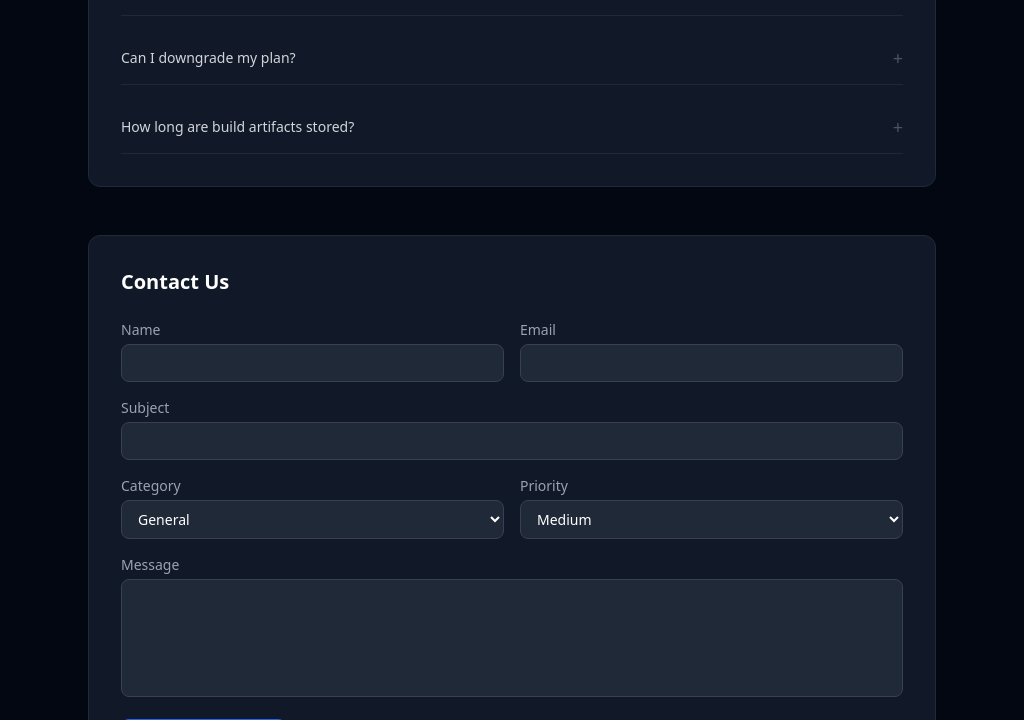
Test: SupportPage › shows error message when ticket submission fails
The width and height of the screenshot is (1024, 720).
(page scrolled)
Type "John Doe" into the field labelled "Name".
click(312, 363); type("John Doe")  # box [121, 344, 504, 382]
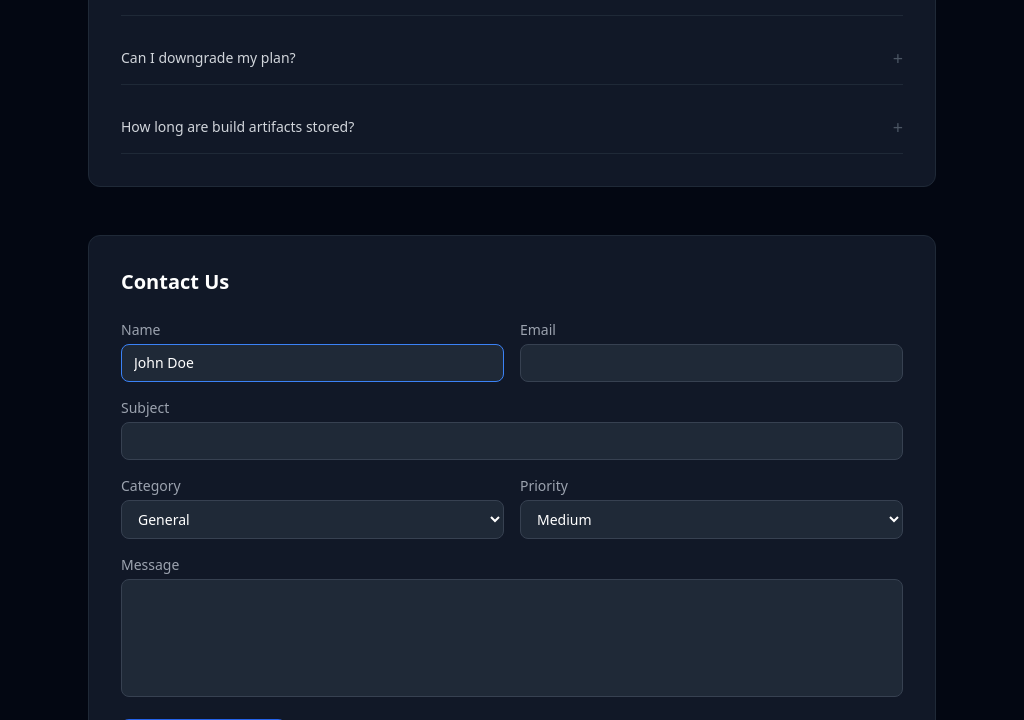
Type "john@example.com" into the field labelled "Email".
click(712, 363); type("john@example.com")  # box [520, 344, 903, 382]
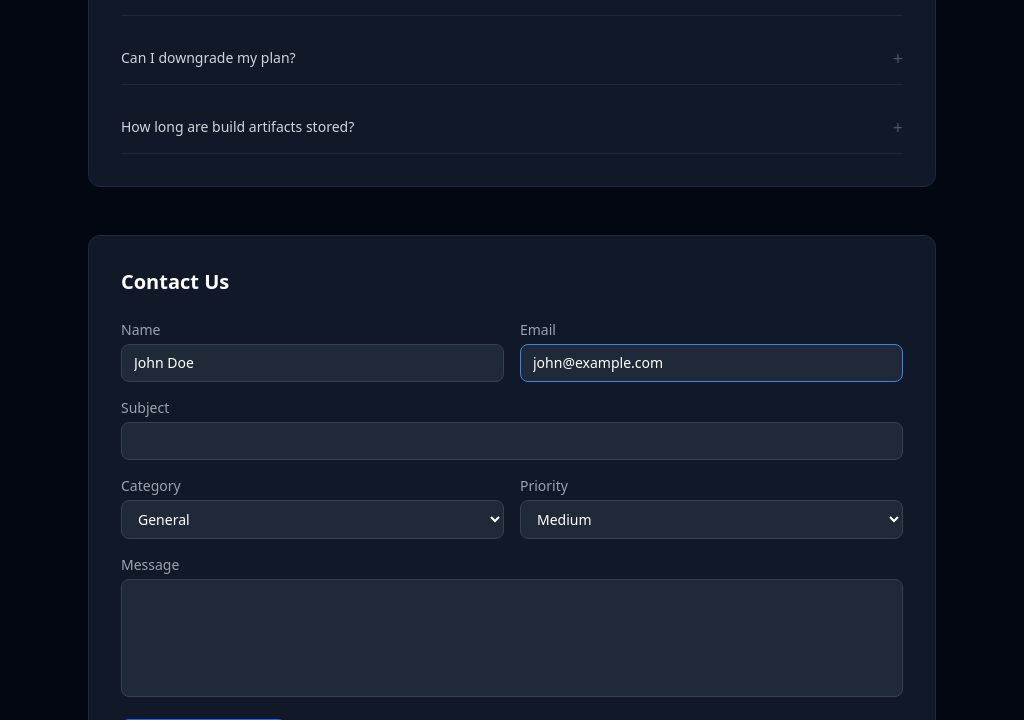
Type "Test Subject" into the field labelled "Subject".
click(512, 441); type("Test Subject")  # box [121, 422, 903, 460]
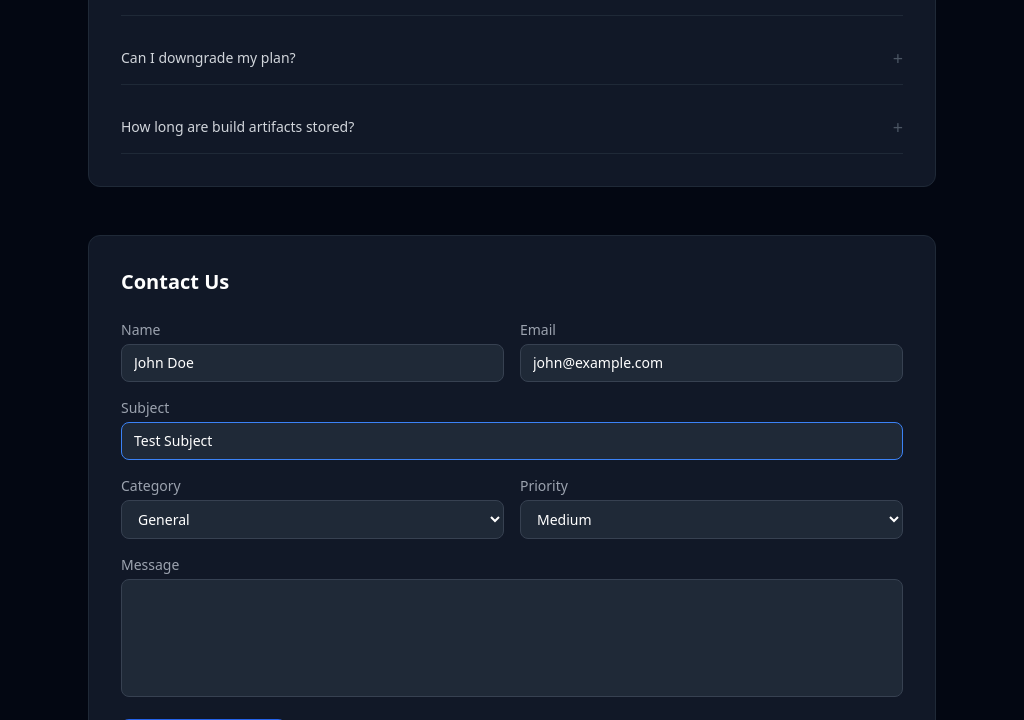
Type "Test message" into the text box labelled "Message".
click(512, 638); type("Test message")  # box [121, 579, 903, 697]
(page scrolled)
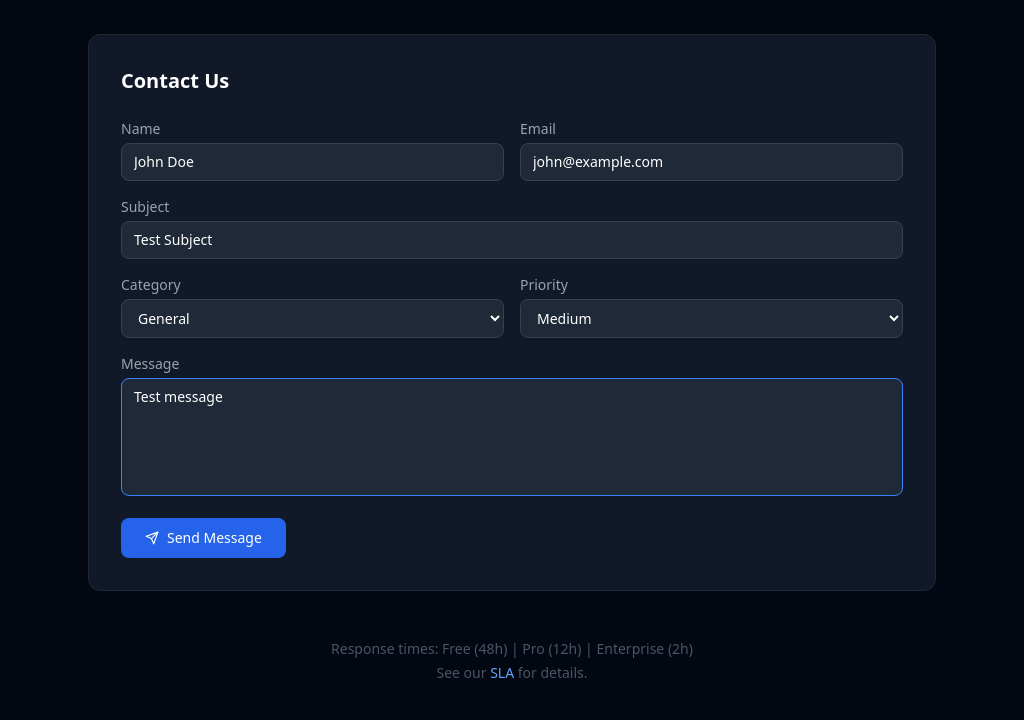
Click the button "Send Message".
click(203, 538)  # box [121, 518, 286, 558]
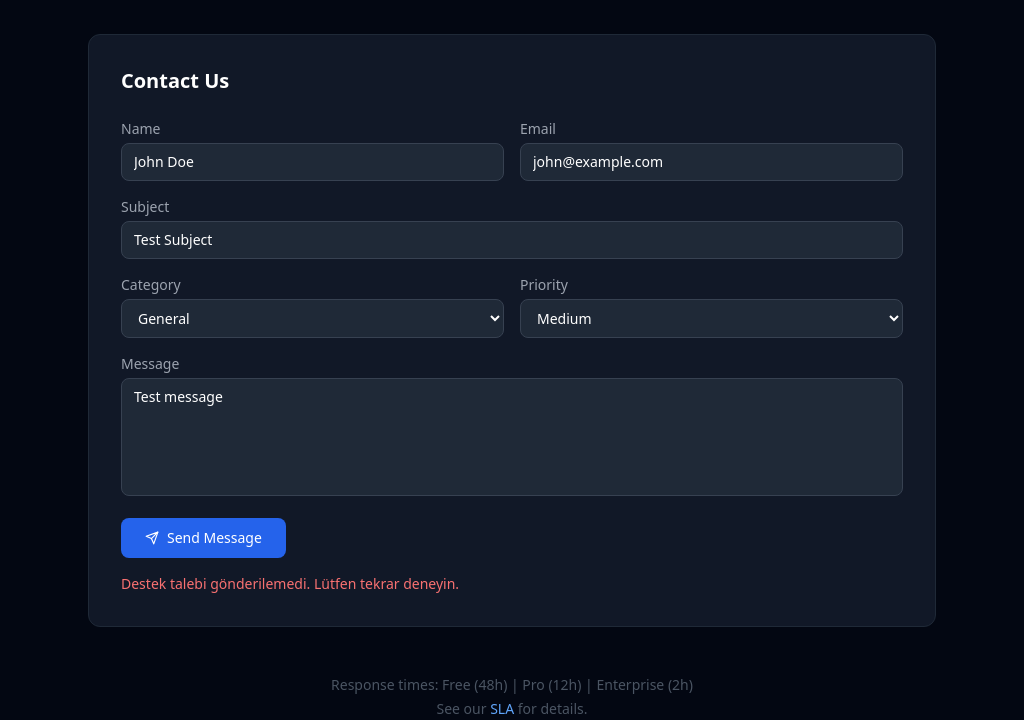
Check: the text "Destek talebi gönderilemedi. Lütfen tekrar deneyin." is shown, box [121, 574, 459, 593]
